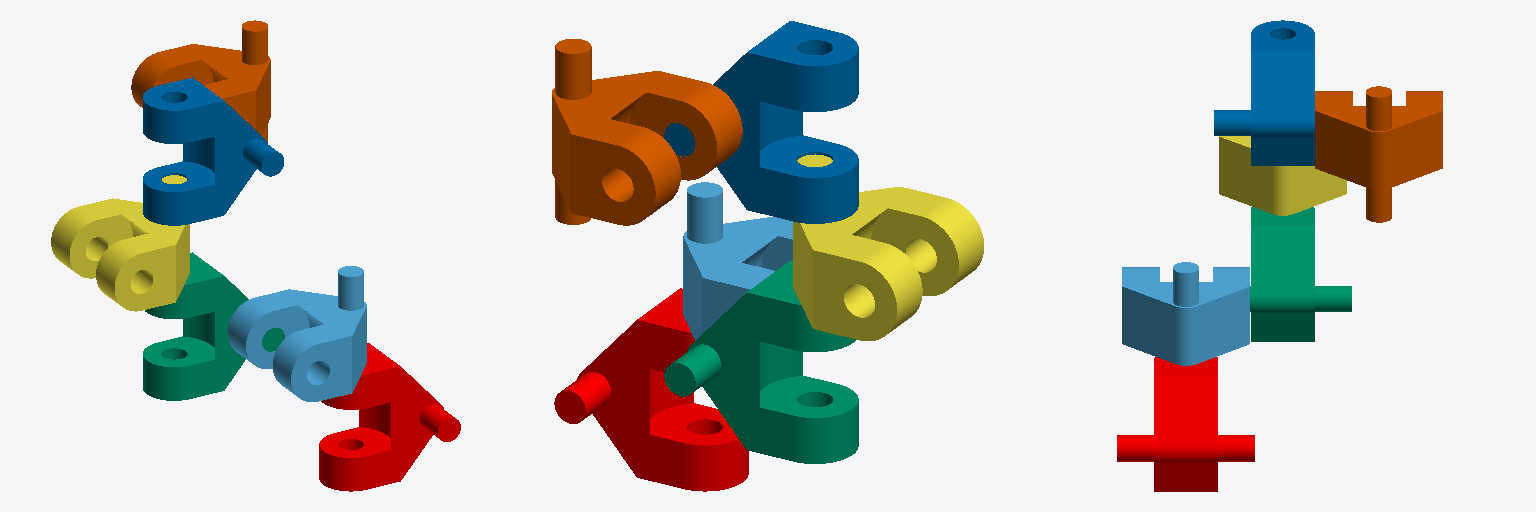
The robot description file, URDF, robot "robot":
<?xml version="1.0" ?>
<robot name="robot">
    
    
    
    
    
    
    
    
    <link name="b_ArmLink1_001_">
        
        
        
        
        
        
        
        
        <visual>
            
            
            
            
            
            
            
            
            <geometry>
                
                
                
                
                
                
                
                
                <mesh filename="b_ArmLink1_001_.obj"/>
                
                
                
                
            
            
            
            
            </geometry>
            
            
            
            
            
            
            
            
            <origin xyz="0 0 0" rpy="0 0 0"/>
            
            
            
            
            
            
            
            
            <material name="visual_material">
                
                
                
                
                
                
                
                
                <color rgba="1 0 0 1"/>
                
                
                
                
            
            
            
            
            </material>
            
            
            
            
        
        
        
        
        </visual>
        
        
        
        
        
        
        
        
        <inertial>
            
            
            
            
            
            
            
            
            <mass value="1"/>
            
            
            
            
            
            
            
            
            <origin xyz="0 0 0" rpy="0 0 0"/>
            
            
            
            
            
            
            
            
            <inertia ixx="1" ixy="0" ixz="0" iyy="1" iyz="0" izz="1"/>
            
            
            
            
        
        
        
        
        </inertial>
        
        
        
        
        
        
        
        
        <collision>
            
            
            
            
            
            
            
            
            <geometry>
                
                
                
                
                
                
                
                
                <mesh filename="b_ArmLink1_001_.obj"/>
                
                
                
                
            
            
            
            
            </geometry>
            
            
            
            
            
            
            
            
            <origin xyz="0 0 0" rpy="0 0 0"/>
            
            
            
            
        
        
        
        
        </collision>
        
        
        
        
    
    
    
    
    </link>
    
    
    
    
    
    
    
    
    <joint name="b_ArmLink1_001__to_b_ArmLink1_001_001" type="revolute">
        
        
        
        
        
        
        
        
        <parent link="b_ArmLink1_001_"/>
        
        
        
        
        
        
        
        
        <child link="b_ArmLink1_001_001"/>
        
        
        
        
        
        
        
        
        <origin rpy="0 0 0" xyz="-7.105427357601002e-15 -2.842170943040401e-14 -35.000000000000014"/>
        
        
        
        
        
        
        
        
        <axis xyz="0.0 -4.479553950749674e-16 -1.0"/>
        
        
        
        
        
        
        
        
        <limit velocity="10000000"/>
        
        
        
        
    
    
    
    
    </joint>
    
    
    
    
    
    
    
    
    <link name="b_ArmLink1_001_001">
        
        
        
        
        
        
        
        
        <visual>
            
            
            
            
            
            
            
            
            <origin xyz="7.105427357601002e-15 2.842170943040401e-14 35.000000000000014" rpy="0 0 0"/>
            
            
            
            
            
            
            
            
            <geometry>
                
                
                
                
                
                
                
                
                <mesh filename="b_ArmLink1_001_001.obj"/>
                
                
                
                
            
            
            
            
            </geometry>
            
            
            
            
        
        
        
        
        </visual>
        
        
        
        
        
        
        
        
        <inertial>
            
            
            
            
            
            
            
            
            <mass value="1"/>
            
            
            
            
            
            
            
            
            <origin xyz="0 0 0"/>
            
            
            
            
            
            
            
            
            <inertia ixx="23871385305.321434" ixy="0.263599" ixz="-1.589719" iyy="19061226056.076759" iyz="0.154756" izz="29531283802.605843"/>
            
            
            
            
        
        
        
        
        </inertial>
        
        
        
        
        
        
        
        
        <collision>
            
            
            
            
            
            
            
            
            <geometry>
                
                
                
                
                
                
                
                
                <mesh filename="b_ArmLink1_001_001.obj"/>
                
                
                
                
            
            
            
            
            </geometry>
            
            
            
            
        
        
        
        
        </collision>
        
        
        
        
    
    
    
    
    </link>
    
    
    
    

    
    
    
    <joint name="b_ArmLink1_001_001_to_b_ArmLink1_001_002" type="revolute">
        
        
        
        
        
        
        <parent link="b_ArmLink1_001_001"/>
        
        
        
        
        
        
        <child link="b_ArmLink1_001_002"/>
        
        
        
        
        
        
        <origin rpy="0 0 0" xyz="-139.99999760091296 85.00000000000009 95.5696868896485"/>
        
        
        
        
        
        
        <axis xyz="0.0 -1.0 0.0"/>
        
        
        
        
        
        
        <limit velocity="10000000"/>
        
        
        
    
    
    
    </joint>
    
    
    
    
    
    
    <link name="b_ArmLink1_001_002">
        
        
        
        
        
        
        <visual>
            
            
            
            
            
            
            <origin xyz="139.99999760091296 -85.00000000000006 -60.56968688964847" rpy="0 0 0"/>
            
            
            
            
            
            
            <geometry>
                
                
                
                
                
                
                <mesh filename="b_ArmLink1_001_002.obj"/>
                
                
                
            
            
            
            </geometry>
            
            
            
        
        
        
        </visual>
        
        
        
        
        
        
        <inertial>
            
            
            
            
            
            
            <mass value="1"/>
            
            
            
            
            
            
            <origin xyz="0 0 0"/>
            
            
            
            
            
            
            <inertia ixx="23871385305.321442" ixy="-1.589721" ixz="-0.263626" iyy="29531283802.605865" iyz="177.309267" izz="19061226056.076775"/>
            
            
            
        
        
        
        </inertial>
        
        
        
        
        
        
        <collision>
            
            
            
            
            
            
            <geometry>
                
                
                
                
                
                
                <mesh filename="b_ArmLink1_001_002.obj"/>
                
                
                
            
            
            
            </geometry>
            
            
            
        
        
        
        </collision>
        
        
        
    
    
    
    </link>
    
    
    

    
    
    <joint name="b_ArmLink1_001_002_to_b_ArmLink1_001_004" type="revolute">
        
        
        
        
        <parent link="b_ArmLink1_001_002"/>
        
        
        
        
        <child link="b_ArmLink1_001_004"/>
        
        
        
        
        <origin rpy="0 0 0" xyz="-140.0000036662511 97.1362988875673 85.0000016464281"/>
        
        
        
        
        <axis xyz="0.0 1.6949655901044025e-08 -1.0"/>
        
        
        
        
        <limit velocity="10000000"/>
        
        
    
    
    </joint>
    
    
    
    
    <link name="b_ArmLink1_001_004">
        
        
        
        
        <visual>
            
            
            
            
            <origin xyz="280.00000126716407 -182.13629888756736 -145.56968853607657" rpy="0 0 0"/>
            
            
            
            
            <geometry>
                
                
                
                
                <mesh filename="b_ArmLink1_001_004.obj"/>
                
                
            
            
            </geometry>
            
            
        
        
        </visual>
        
        
        
        
        <inertial>
            
            
            
            
            <mass value="1"/>
            
            
            
            
            <origin xyz="0 0 0"/>
            
            
            
            
            <inertia ixx="23871385305.321426" ixy="0.263626" ixz="-1.589719" iyy="19061226056.076775" iyz="0.154753" izz="29531283802.605858"/>
            
            
        
        
        </inertial>
        
        
        
        
        <collision>
            
            
            
            
            <geometry>
                
                
                
                
                <mesh filename="b_ArmLink1_001_004.obj"/>
                
                
            
            
            </geometry>
            
            
        
        
        </collision>
        
        
    
    
    </link>
    
    

    
    <joint name="b_ArmLink1_001_004_to_b_ArmLink1_001_003" type="revolute">
        
        
        <parent link="b_ArmLink1_001_004"/>
        
        
        <child link="b_ArmLink1_001_003"/>
        
        
        <origin rpy="0 0 0" xyz="1.220126875978167e-06 2.4288895588142623e-06 191.15919329986116"/>
        
        
        <axis xyz="0.0 0.0 1.0"/>
        
        
        <limit velocity="10000000"/>
        
    
    </joint>
    
    
    <link name="b_ArmLink1_001_003">
        
        
        <visual>
            
            
            <origin xyz="280.0000000470372 -182.13630131645692 -336.7288818359377" rpy="0 0 0"/>
            
            
            <geometry>
                
                
                <mesh filename="b_ArmLink1_001_003.obj"/>
                
            
            </geometry>
            
        
        </visual>
        
        
        <inertial>
            
            
            <mass value="1"/>
            
            
            <origin xyz="0 0 0"/>
            
            
            <inertia ixx="23871385305.321480" ixy="1.589721" ixz="0.263615" iyy="29531283802.605904" iyz="-0.154756" izz="19061226056.076801"/>
            
        
        </inertial>
        
        
        <collision>
            
            
            <geometry>
                
                
                <mesh filename="b_ArmLink1_001_003.obj"/>
                
            
            </geometry>
            
        
        </collision>
        
    
    </link>
    

    <joint name="b_ArmLink1_001_003_to_b_ArmLink1_001_005" type="revolute">
        <parent link="b_ArmLink1_001_003"/>
        <child link="b_ArmLink1_001_005"/>
        <origin rpy="0 0 0" xyz="140.00000004359384 94.99999969395077 88.95715332031227"/>
        <axis xyz="0.0 1.0 0.0"/>
        <limit velocity="10000000"/>
    </joint>
    <link name="b_ArmLink1_001_005">
        <visual>
            <origin xyz="140.00000000344335 -277.1363010104077 -425.68603515625" rpy="0 0 0"/>
            <geometry>
                <mesh filename="b_ArmLink1_001_005.obj"/>
            </geometry>
        </visual>
        <inertial>
            <mass value="1"/>
            <origin xyz="0 0 0"/>
            <inertia ixx="23871385305.321426" ixy="0.263611" ixz="-1.589717" iyy="19061226056.076763" iyz="0.154751" izz="29531283802.605850"/>
        </inertial>
        <collision>
            <geometry>
                <mesh filename="b_ArmLink1_001_005.obj"/>
            </geometry>
        </collision>
    </link>
</robot>

--- Facts derived from the render (not from the file) ---
The picture shows the robot from 3 angles, left to right: view 1: azimuth 30°, elevation 25°; view 2: azimuth 150°, elevation 25°; view 3: azimuth 270°, elevation 25°; orthographic projection.
Robot: robot — 6 links, 5 joints (5 revolute); root link b_ArmLink1_001_; default pose: every joint at zero.
Links seen in each view (by area): view 1: b_ArmLink1_001_003, b_ArmLink1_001_001, b_ArmLink1_001_, b_ArmLink1_001_004, b_ArmLink1_001_002, b_ArmLink1_001_005; view 2: b_ArmLink1_001_005, b_ArmLink1_001_003, b_ArmLink1_001_002, b_ArmLink1_001_004, b_ArmLink1_001_, b_ArmLink1_001_001; view 3: b_ArmLink1_001_005, b_ArmLink1_001_001, b_ArmLink1_001_, b_ArmLink1_001_003, b_ArmLink1_001_002, b_ArmLink1_001_004.
Boxes of the visible links, bbox=[...] form: b_ArmLink1_001_003: bbox=[143, 77, 283, 225]; b_ArmLink1_001_001: bbox=[228, 266, 366, 401]; b_ArmLink1_001_: bbox=[319, 343, 460, 491]; b_ArmLink1_001_004: bbox=[51, 175, 189, 311]; b_ArmLink1_001_002: bbox=[143, 252, 283, 400]; b_ArmLink1_001_005: bbox=[131, 20, 270, 142]; b_ArmLink1_001_005: bbox=[552, 39, 742, 225]; b_ArmLink1_001_003: bbox=[664, 21, 858, 223]; b_ArmLink1_001_002: bbox=[664, 261, 858, 463]; b_ArmLink1_001_004: bbox=[793, 154, 983, 340]; b_ArmLink1_001_: bbox=[554, 288, 748, 491]; b_ArmLink1_001_001: bbox=[683, 182, 792, 340]; b_ArmLink1_001_005: bbox=[1315, 86, 1442, 222]; b_ArmLink1_001_001: bbox=[1122, 262, 1249, 365]; b_ArmLink1_001_: bbox=[1117, 357, 1254, 491]; b_ArmLink1_001_003: bbox=[1214, 20, 1314, 165]; b_ArmLink1_001_002: bbox=[1250, 207, 1351, 341]; b_ArmLink1_001_004: bbox=[1219, 136, 1346, 215].
Bounding box of the posed robot: 650 × 613 × 796 m (x, y, z).
Meshes: 6 distinct files referenced, 6 mesh visuals loaded (6 OBJ).